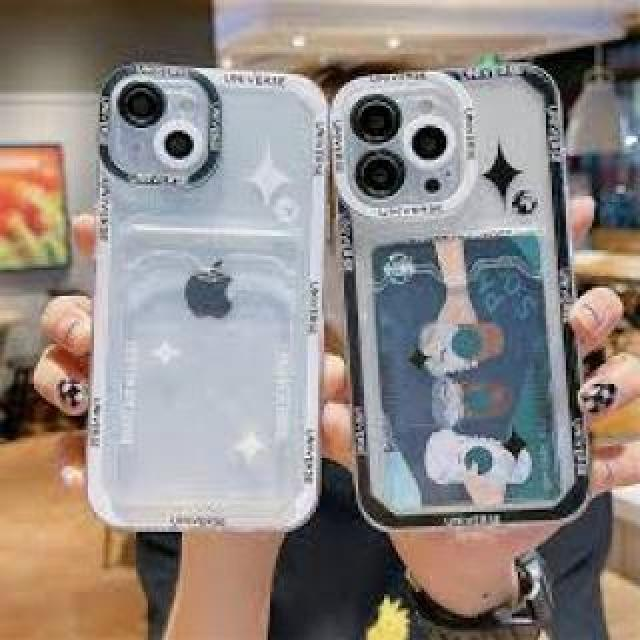smart phone: (63, 30, 320, 547), (344, 35, 568, 538)
